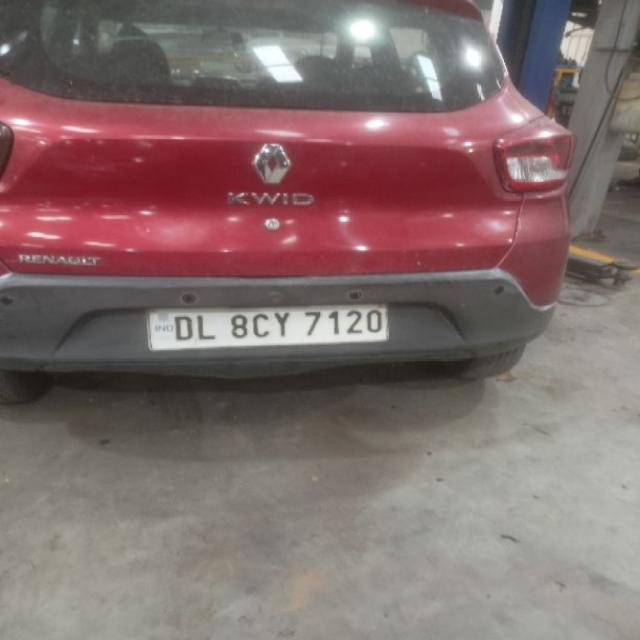license_plate: (144, 302, 390, 351)
